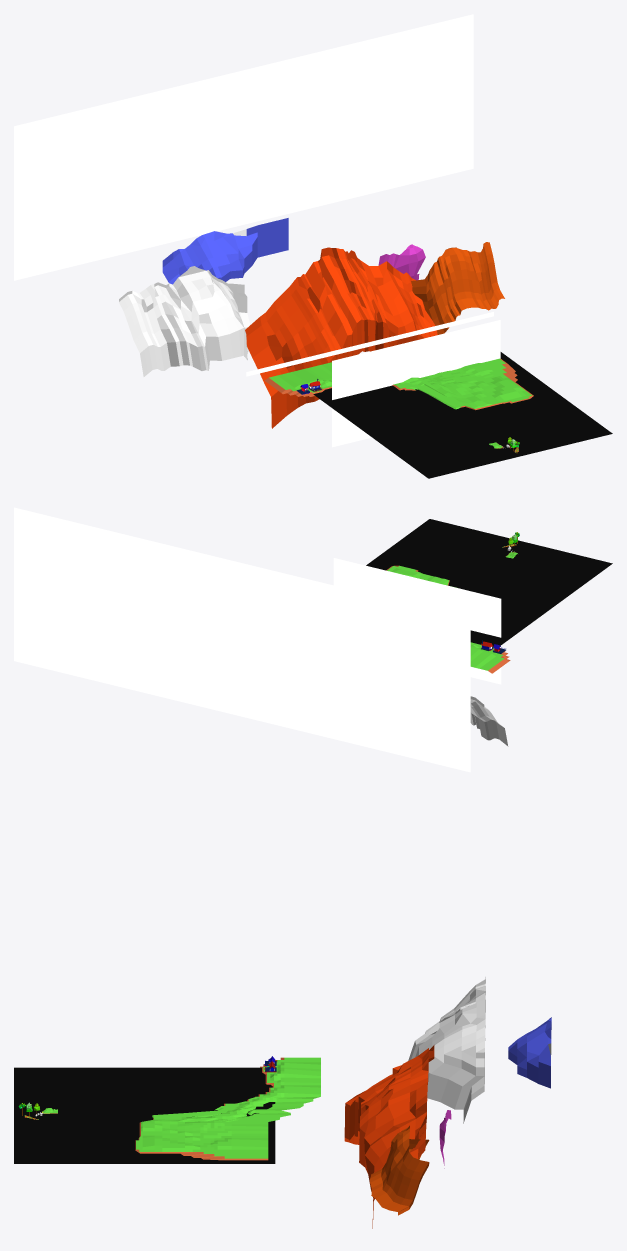
The model's file is treemap.glb.
The picture shows the model from 3 angles, top to bottom: view 1: azimuth 30°, elevation 25°; view 2: azimuth 150°, elevation 25°; view 3: azimuth 270°, elevation 25°; orthographic projection. The views are drawn at different scales.
Parts seen in each view (by area): view 1: Plane.010, Plane.007, Plane.003, Plane.008, paisajes-bonitos-de-otoño-lago, Plane.004, Plane.001, Plane.009, Plane, Plane.006; view 2: Plane.010, Plane.003, paisajes-bonitos-de-otoño-lago, Plane.004, Plane.008; view 3: Plane.003, Plane.004, Plane.007, Plane.008, Plane.001, Plane.009.
Boxes of the visible parts, x1,y1,x2,y2 form: Plane.010: (14, 14, 473, 280); Plane.007: (245, 247, 437, 428); Plane.003: (313, 352, 612, 478); Plane.008: (119, 266, 250, 376); paisajes-bonitos-de-otoño-lago: (332, 320, 500, 447); Plane.004: (264, 358, 533, 410); Plane.001: (411, 242, 504, 334); Plane.009: (162, 218, 288, 284); Plane: (246, 312, 493, 376); Plane.006: (378, 244, 425, 280); Plane.010: (14, 507, 470, 772); Plane.003: (366, 519, 612, 645); paisajes-bonitos-de-otoño-lago: (333, 558, 501, 684); Plane.004: (386, 565, 510, 673); Plane.008: (470, 696, 508, 746); Plane.003: (14, 1067, 275, 1163); Plane.004: (135, 1057, 320, 1160); Plane.007: (344, 1045, 434, 1228); Plane.008: (408, 977, 485, 1123); Plane.001: (370, 1125, 429, 1215); Plane.009: (508, 1017, 551, 1088).
Bounding box in the file's own units: 509 × 271 × 535.
